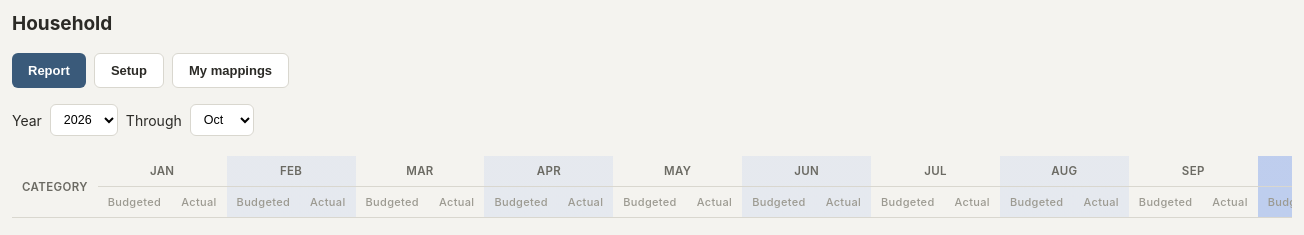
Scenario: mappings say so when they can't load, and retry
The image size is (1304, 235).
Expected: the heading "Household" is shown, [12,12,112,35]
Step 1. Click the button "My mappings" → coordinates (231, 70), box [172,53,289,88]
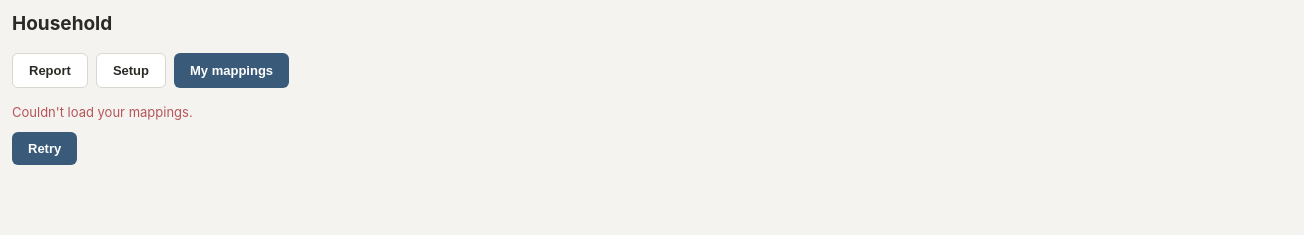
Expected: the text "no shared categories yet" is not shown
Expected: the message shows "Couldn't load your mappings", [12,104,193,120]
Step 2. Click the button "Retry" → coordinates (45, 148), box [12,132,77,165]
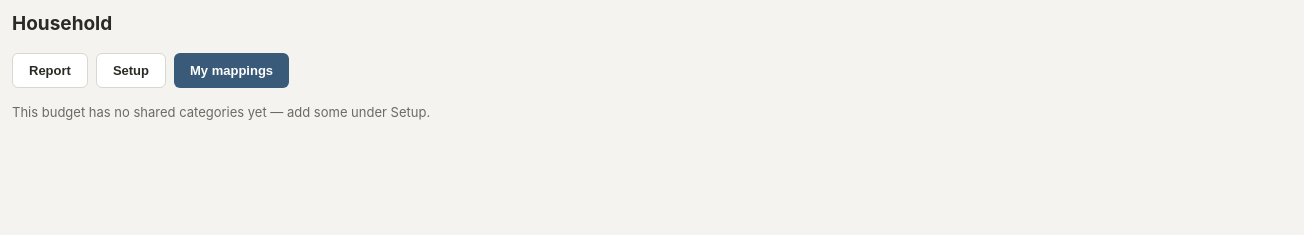
Expected: the text "no shared categories yet" is shown, [12,104,430,120]
Expected: the message "Couldn't load your mappings." is gone
